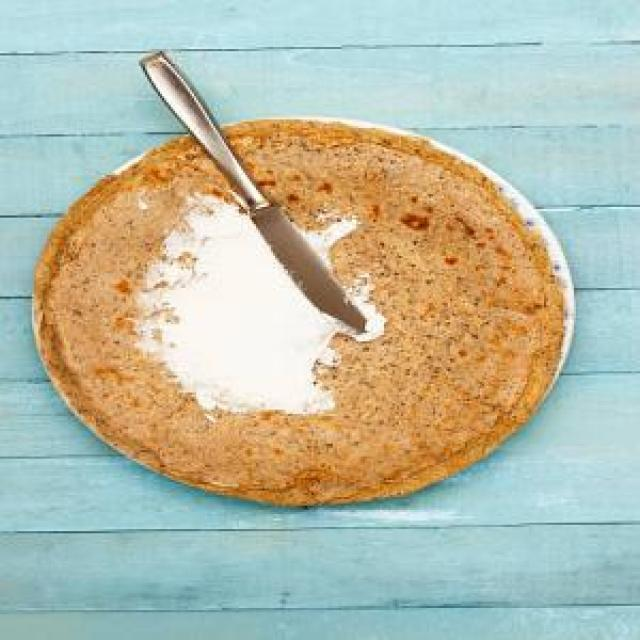knife: (120, 53, 385, 338)
